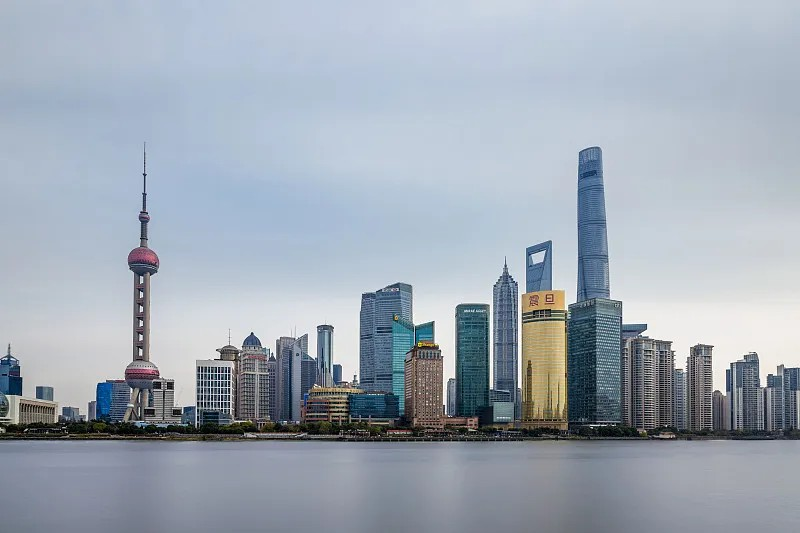Oriental: (123, 142, 160, 420)
